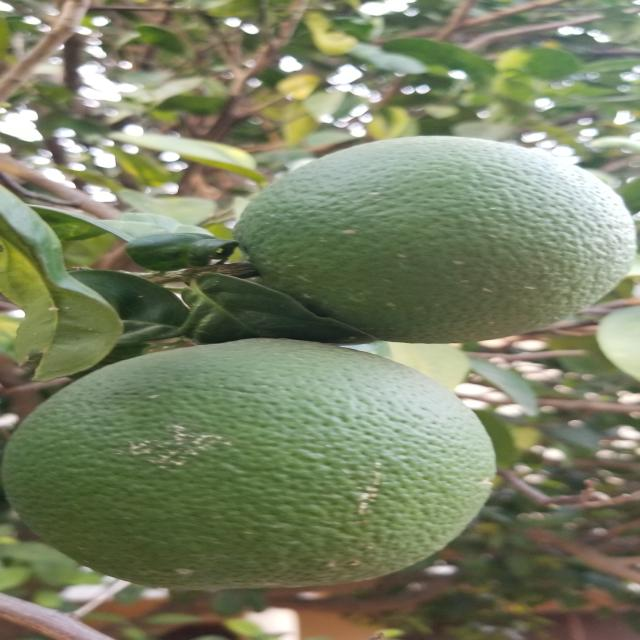Unripe: (0, 336, 500, 589), (222, 133, 637, 343)
